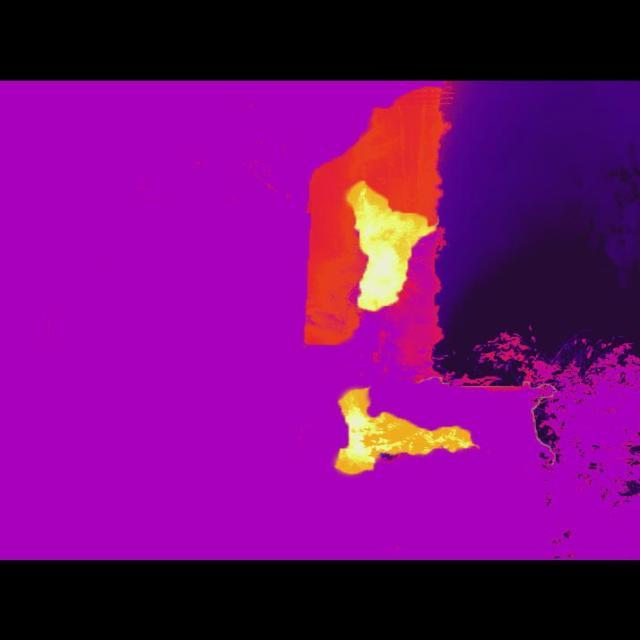fire: (326, 384, 481, 481), (347, 184, 438, 316)
